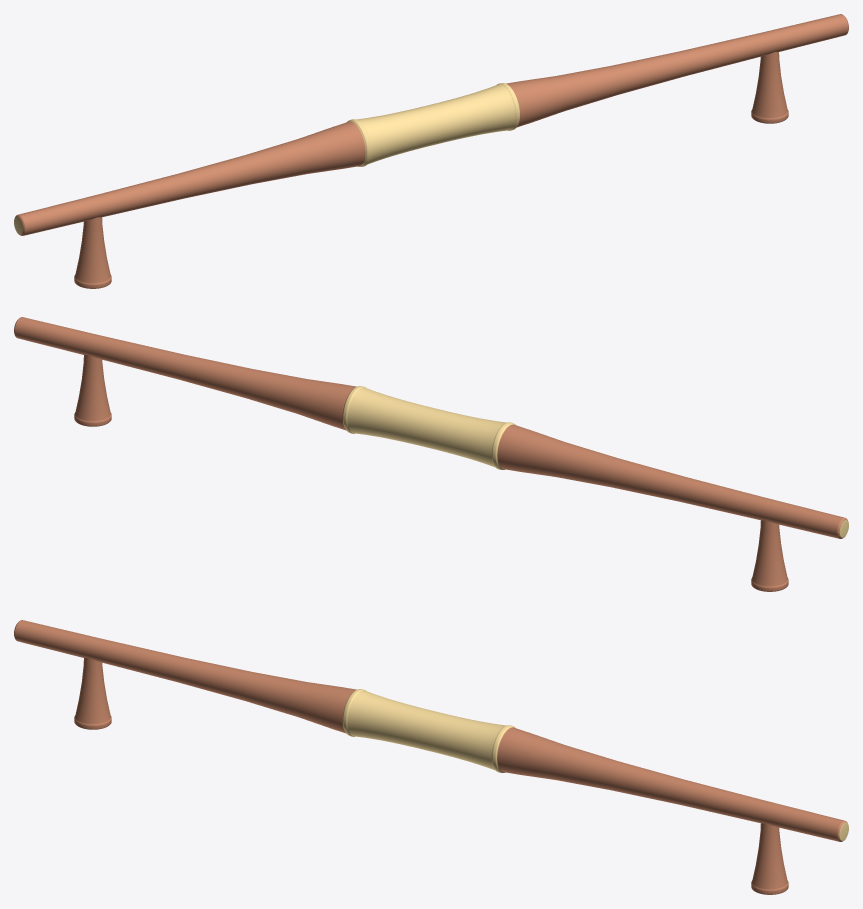
Rendered from door-handles-1729.glb.
3 renders of one model, top to bottom at view 1: azimuth 30°, elevation 25°; view 2: azimuth 150°, elevation 25°; view 3: azimuth 330°, elevation 25°, orthographic.
Parts seen in each view (by area): view 1: Bar, Post -1, Post 1; view 2: Bar, Post -1, Post 1; view 3: Bar, Post 1, Post -1.
Boxes of the visible parts, box(x1,y1,x2,y2) form: Bar: box(14, 14, 848, 235); Post -1: box(74, 217, 111, 288); Post 1: box(751, 52, 788, 123); Bar: box(14, 317, 848, 538); Post -1: box(751, 520, 788, 591); Post 1: box(74, 355, 111, 426); Bar: box(14, 620, 848, 841); Post 1: box(751, 823, 788, 894); Post -1: box(74, 658, 111, 729).
Size of the model in its own units: 0.305 by 0.0338 by 0.0156.
